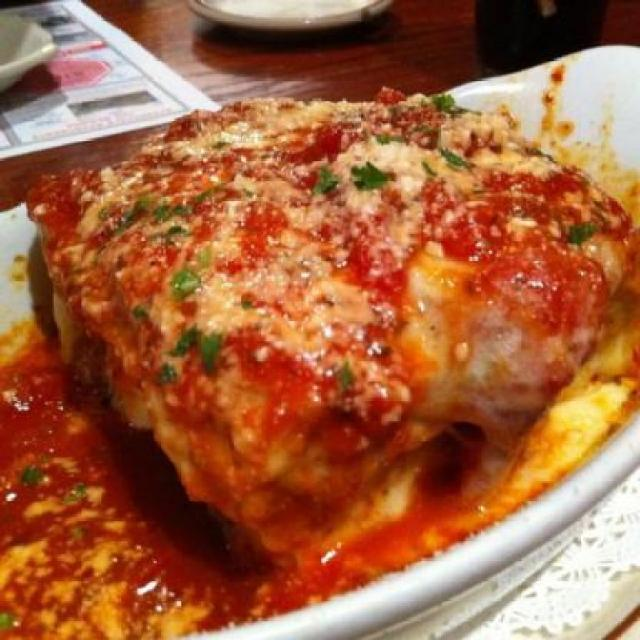Lasagna: (36, 85, 639, 508)
